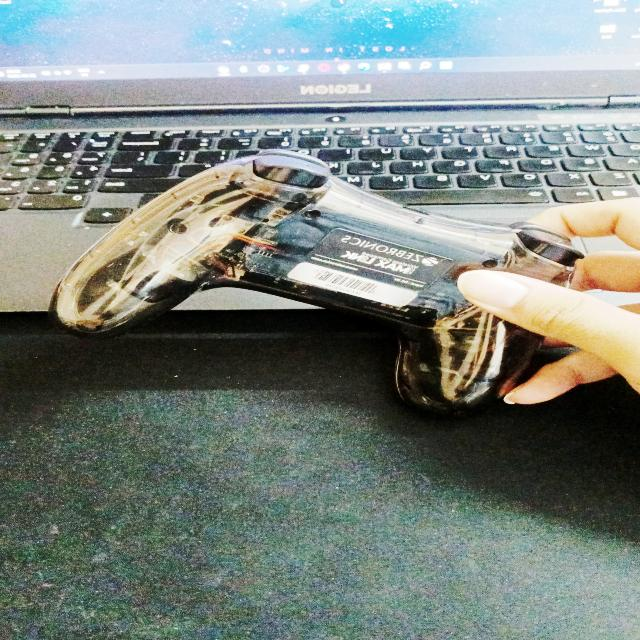gamepad: (49, 149, 588, 416)
